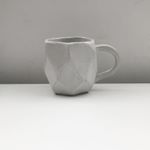cups: (40, 32, 123, 99)
